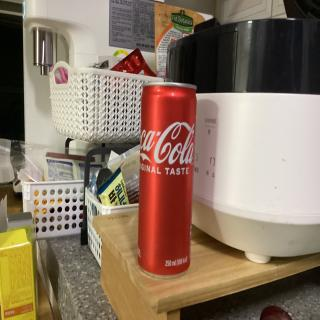cocacola: (138, 80, 193, 280)
